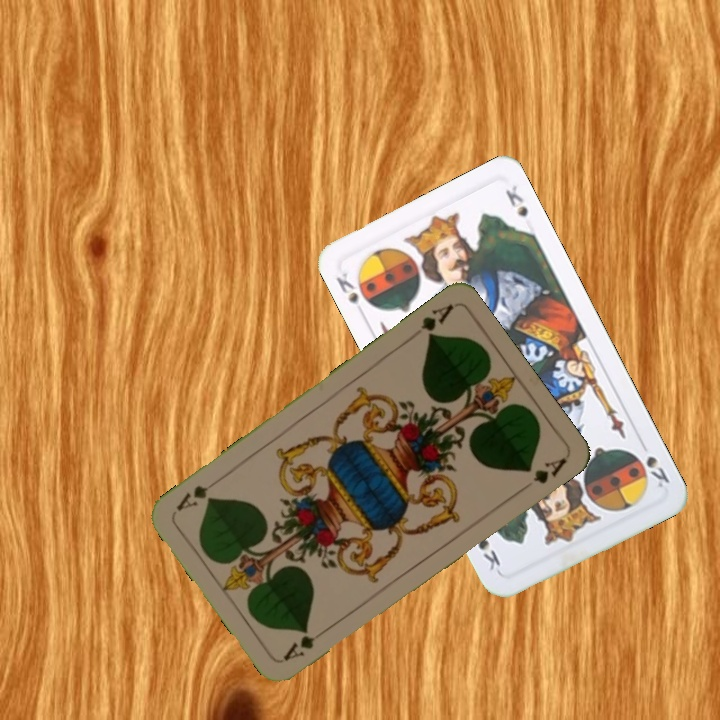GA: (279, 623, 332, 664), (417, 300, 456, 342)
SK: (332, 268, 369, 320), (642, 451, 672, 491)
